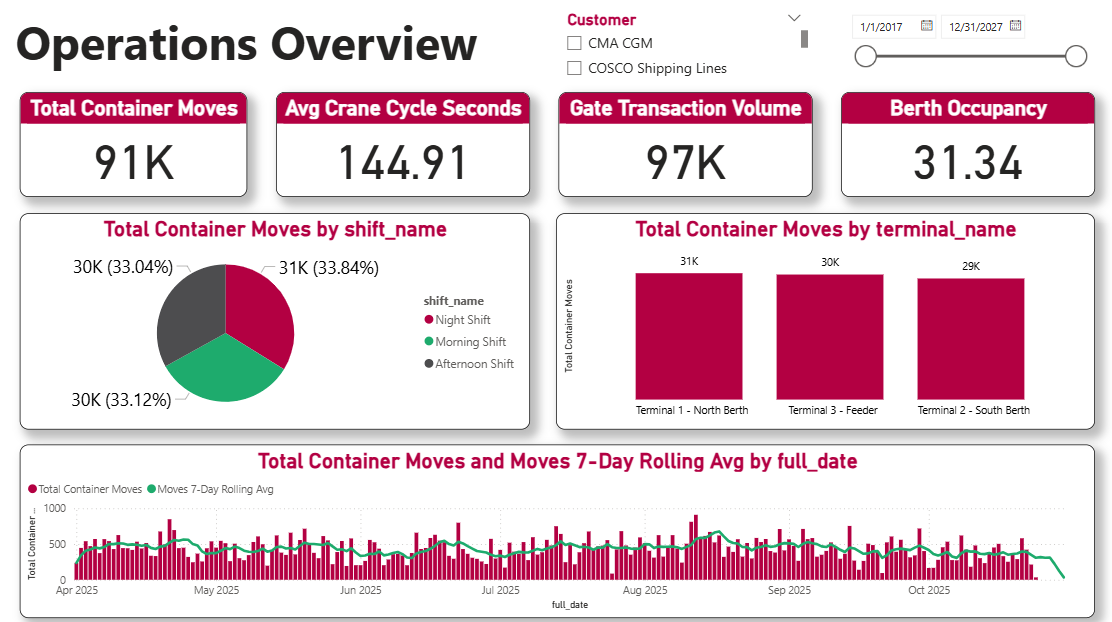

The page's visual inventory and layout, read from the dashboard file:
{"tool":"powerbi","page":{"name":"Operations Overview","canvas":[1280,720],"ordinal":0},"visuals":[{"type":"card","title":"Total Container Moves","fields":{"Values":["MY Measures.Total Container Moves"]},"box":[27.1,108.6,260,120],"z":0},{"type":"card","title":"Avg Crane Cycle Seconds","fields":{"Values":["MY Measures.Avg Crane Cycle Seconds"]},"box":[320,108.6,290,120],"z":1000},{"type":"card","title":"Gate Transaction Volume","fields":{"Values":["MY Measures.Gate Transaction Volume"]},"box":[642.9,108.6,290,120],"z":2000},{"type":"card","title":"Berth Occupancy","fields":{"Values":["MY Measures.Stay Duration Hours"]},"box":[965.7,108.6,290,120],"z":3000},{"type":"slicer","fields":{"Values":["mart Dim_Date.full_date"]},"box":[965.7,10,290,88.6],"z":4000},{"type":"slicer","fields":{"Values":["mart Dim_Customer.customer_name"]},"box":[640,10,292.9,88.6],"z":5000},{"type":"lineStackedColumnComboChart","fields":{"Y":["MY Measures.Total Container Moves"],"Y2":["MY Measures.Moves 7-Day Rolling Avg"],"Category":["mart Dim_Date.full_date"]},"box":[27.1,511.4,1228.6,198.6],"z":6000},{"type":"clusteredColumnChart","fields":{"Category":["mart Dim_Terminal.terminal_name"],"Y":["MY Measures.Total Container Moves"]},"box":[640,247.1,615.7,247.1],"z":7000},{"type":"pieChart","fields":{"Category":["mart Dim_Shifts.shift_name"],"Y":["MY Measures.Total Container Moves"]},"box":[27.1,247.1,582.9,247.1],"z":8000},{"type":"textbox","box":[17.1,10,602.9,88.6],"z":9000}]}

Visuals, with their boxes in screenshot pixels (x1, y1, x2, y2), scaled from the page's 1280x720 canvas onto the 1112x622 screenshot:
"Total Container Moves" card: {"x1": 24, "y1": 94, "x2": 249, "y2": 197}
"Avg Crane Cycle Seconds" card: {"x1": 278, "y1": 94, "x2": 530, "y2": 197}
"Gate Transaction Volume" card: {"x1": 559, "y1": 94, "x2": 810, "y2": 197}
"Berth Occupancy" card: {"x1": 839, "y1": 94, "x2": 1091, "y2": 197}
slicer - mart Dim_Date.full_date: {"x1": 839, "y1": 9, "x2": 1091, "y2": 85}
slicer - mart Dim_Customer.customer_name: {"x1": 556, "y1": 9, "x2": 810, "y2": 85}
lineStackedColumnComboChart - MY Measures.Total Container Moves x MY Measures.Moves 7-Day Rolling Avg: {"x1": 24, "y1": 442, "x2": 1091, "y2": 613}
clusteredColumnChart - mart Dim_Terminal.terminal_name x MY Measures.Total Container Moves: {"x1": 556, "y1": 213, "x2": 1091, "y2": 427}
pieChart - mart Dim_Shifts.shift_name x MY Measures.Total Container Moves: {"x1": 24, "y1": 213, "x2": 530, "y2": 427}
textbox: {"x1": 15, "y1": 9, "x2": 539, "y2": 85}
